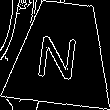N_N: (37, 26, 85, 81)
